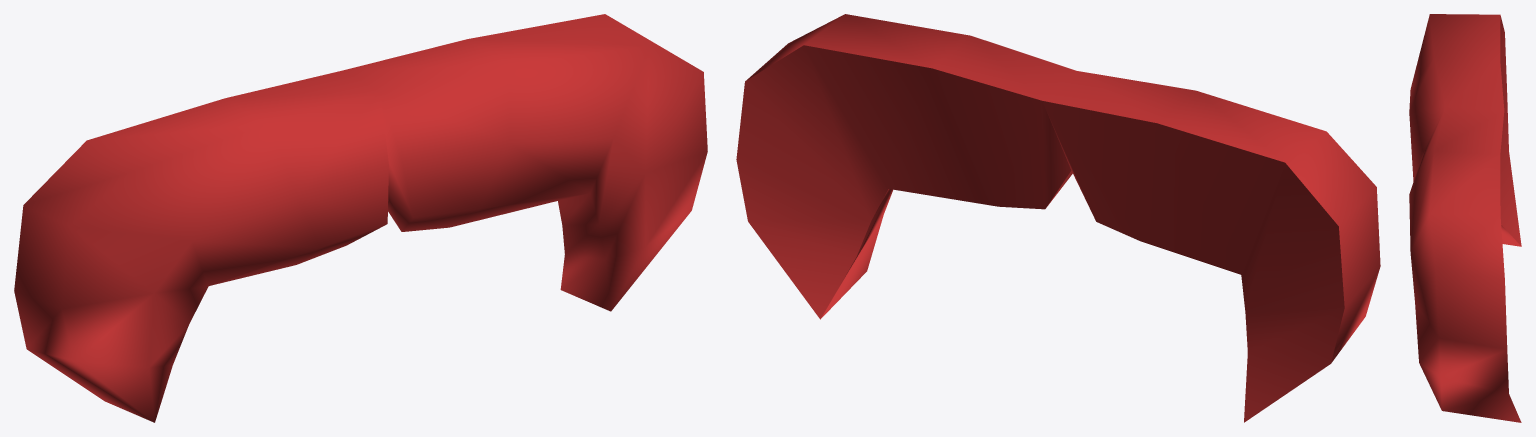
File: Beard_Red_5.fbx
3 views of the same model, side by side, from view 1: azimuth 30°, elevation 25°; view 2: azimuth 150°, elevation 25°; view 3: azimuth 270°, elevation 25° (orthographic). The views are drawn at different scales.
Visible parts, largest first — view 1: Beard_Red_5; view 2: Beard_Red_5; view 3: Beard_Red_5.
Part boxes in pixels (box(x1,y1,x2,y2)): Beard_Red_5: box(14, 14, 707, 422); Beard_Red_5: box(736, 14, 1380, 422); Beard_Red_5: box(1409, 14, 1521, 422).
Bounding box in the file's own units: 30.33 × 12.89 × 5.69.
